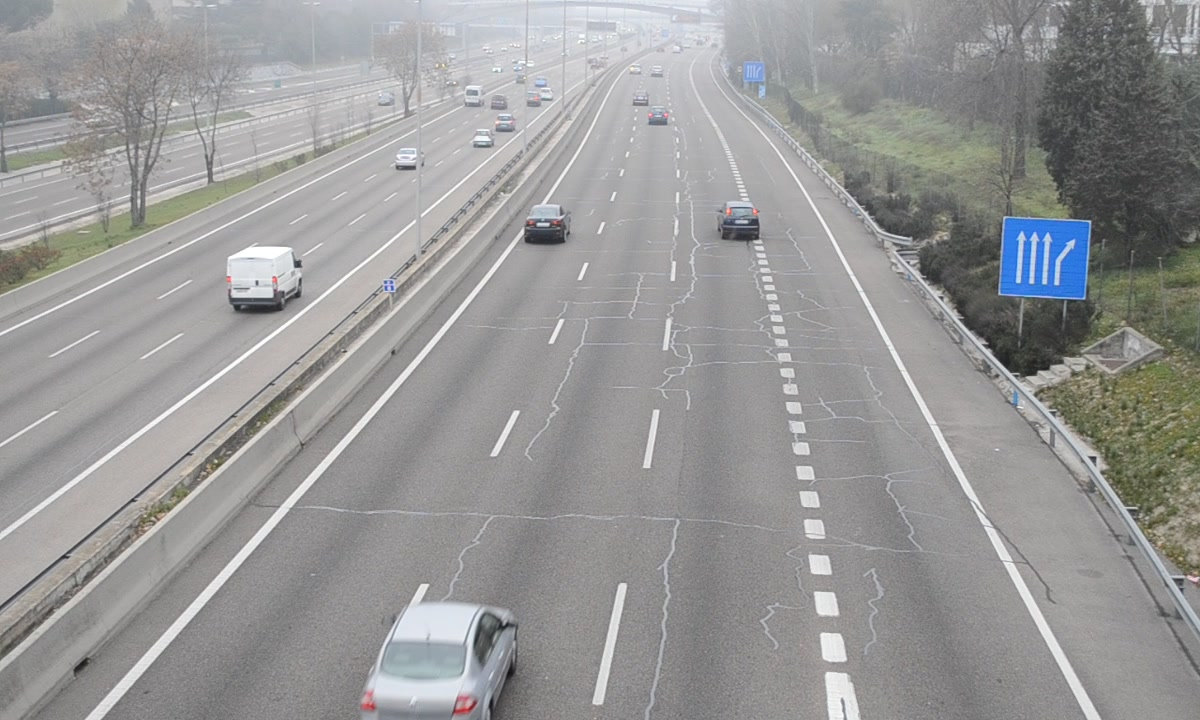car: (362, 604, 516, 720), (523, 204, 569, 242), (719, 201, 760, 239)
